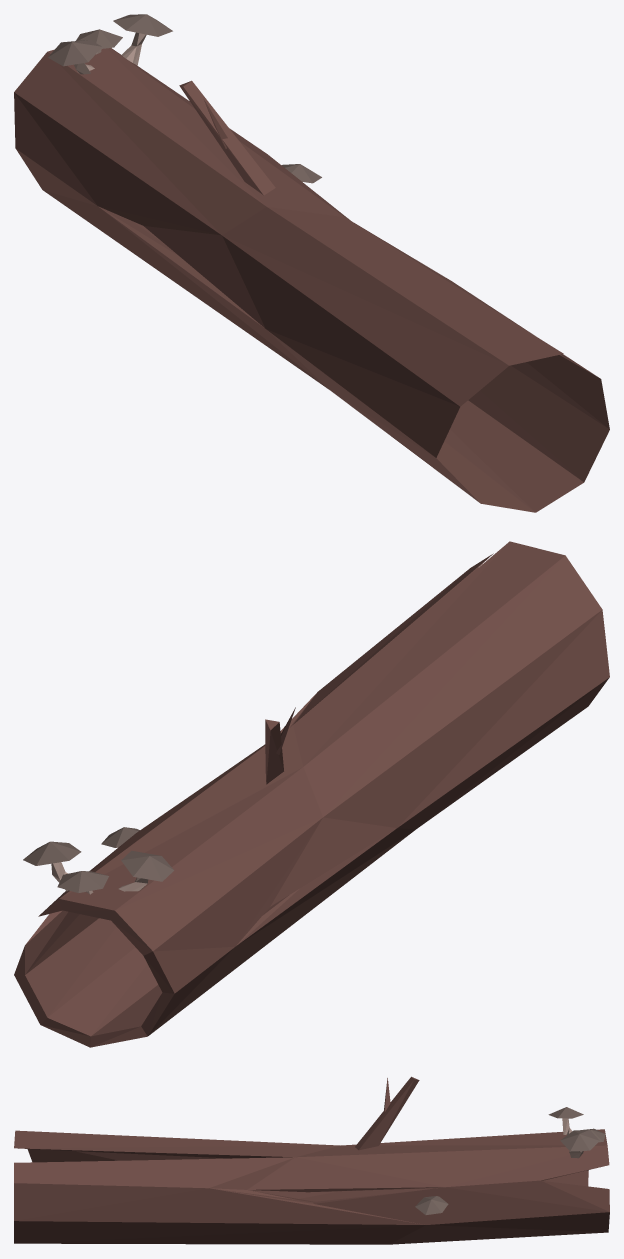
Rendered from WoodLog.lod1.glb.
3 renders of one model, top to bottom at view 1: azimuth 30°, elevation 25°; view 2: azimuth 150°, elevation 25°; view 3: azimuth 270°, elevation 25°, orthographic. The views are drawn at different scales.
Parts seen in each view (by area): view 1: WoodLog; view 2: WoodLog; view 3: WoodLog.
Part boxes in pixels (<box>): WoodLog: <box>14,14,609,512</box>; WoodLog: <box>14,541,609,1047</box>; WoodLog: <box>14,1076,609,1244</box>.
Size of the model in its own units: 0.6331 by 0.7339 by 2.67.
